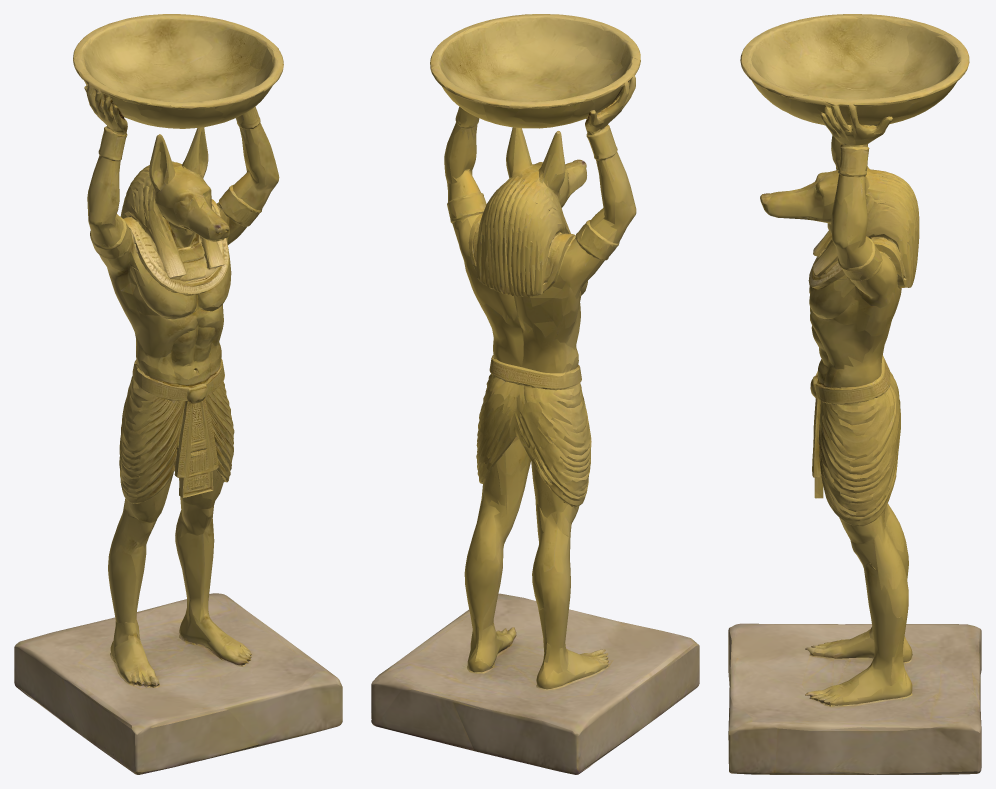
File: et_torchbearer.glb
3 renders of one model, left to right at view 1: azimuth 30°, elevation 25°; view 2: azimuth 150°, elevation 25°; view 3: azimuth 270°, elevation 25°, orthographic. The views are drawn at different scales.
Bounding box in the file's own units: 0.6352 × 1.9 × 0.6514.
Materials: 1 (1 with a texture image).
